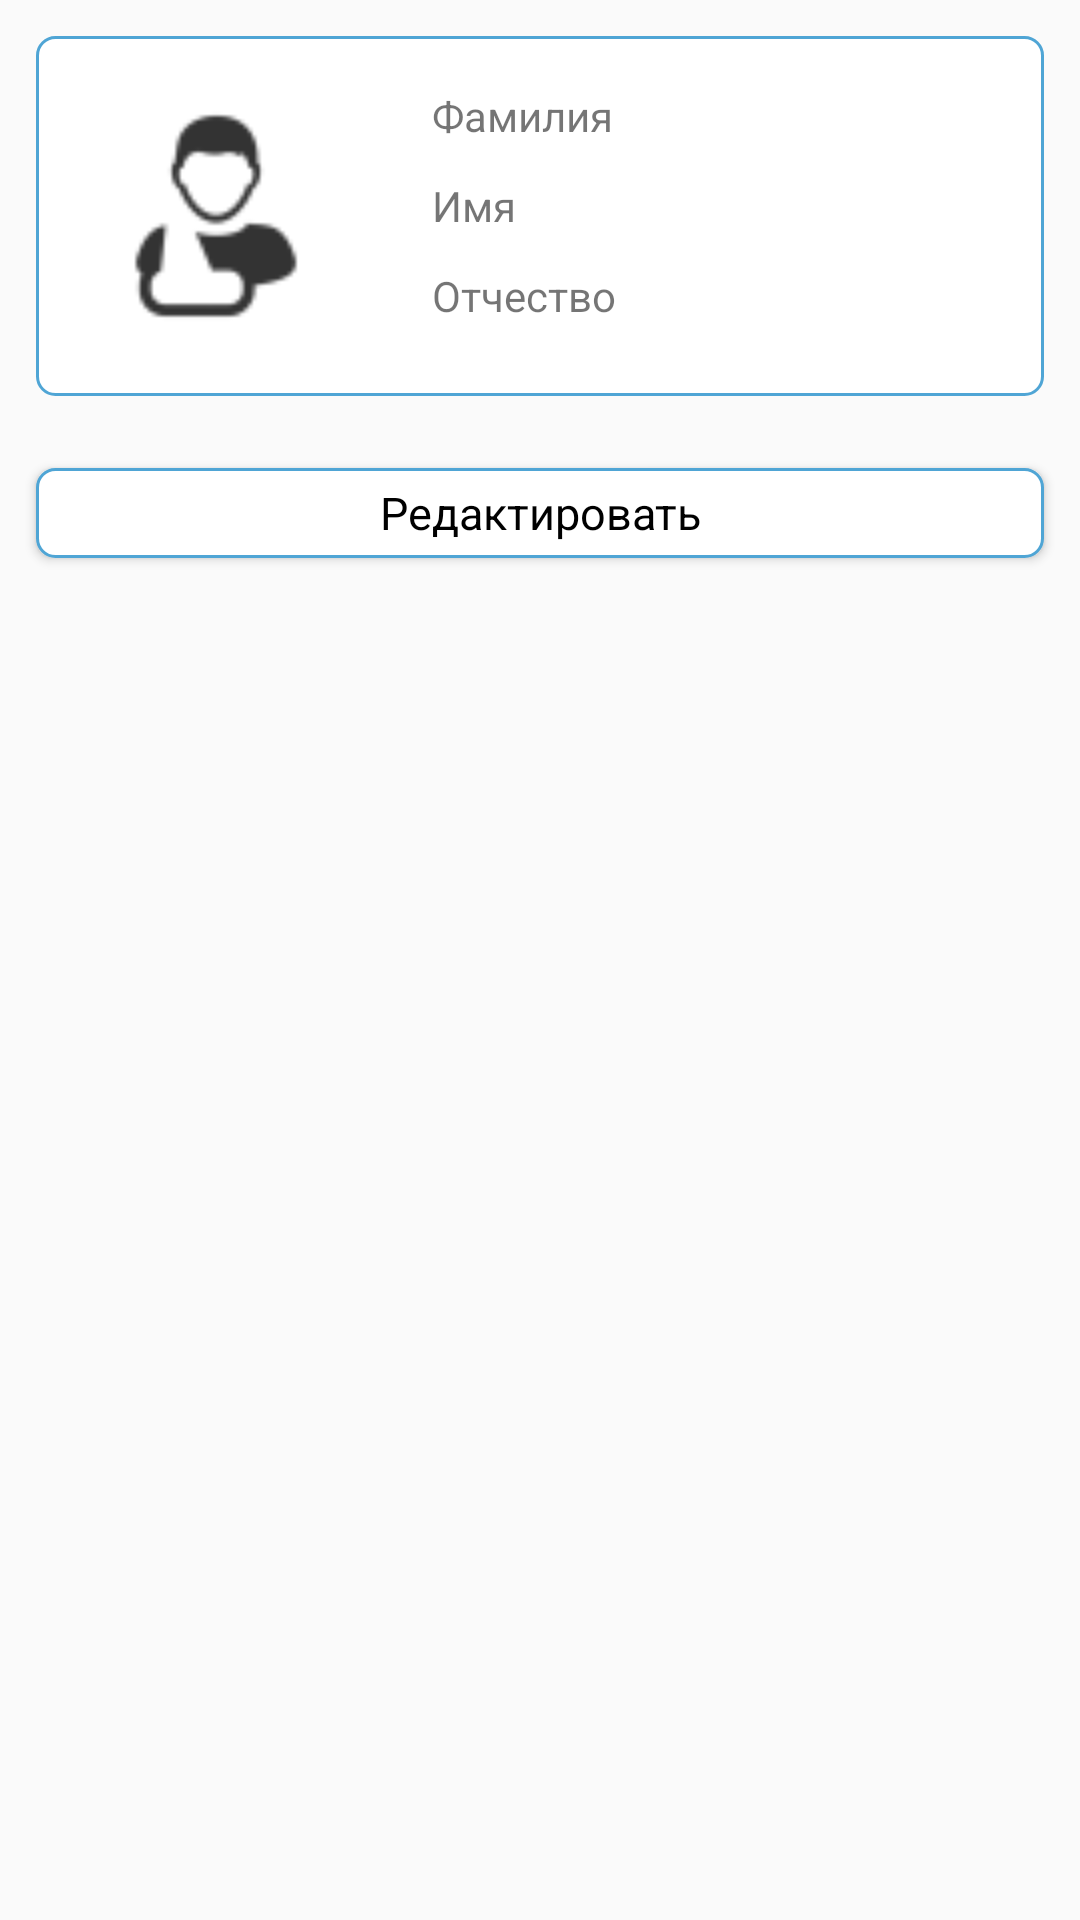

Where to tap for icons on this 1080 × 1920 app screen, as point (x, y):
patient: point (216, 216)
